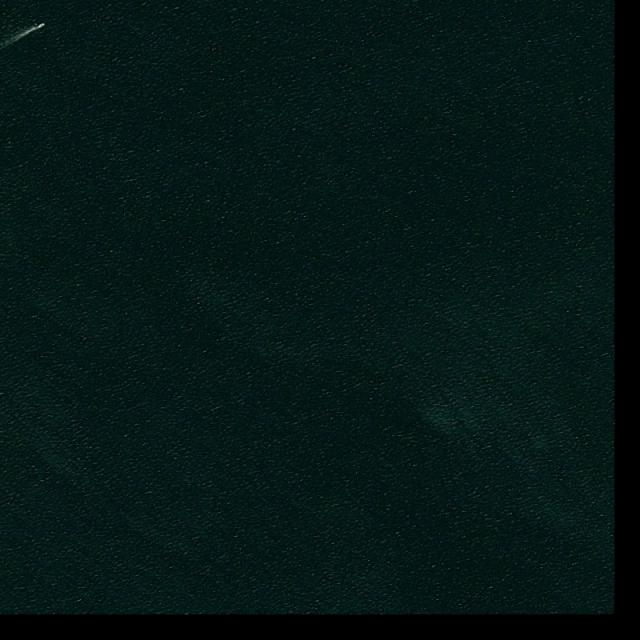ship: (31, 22, 46, 31)
